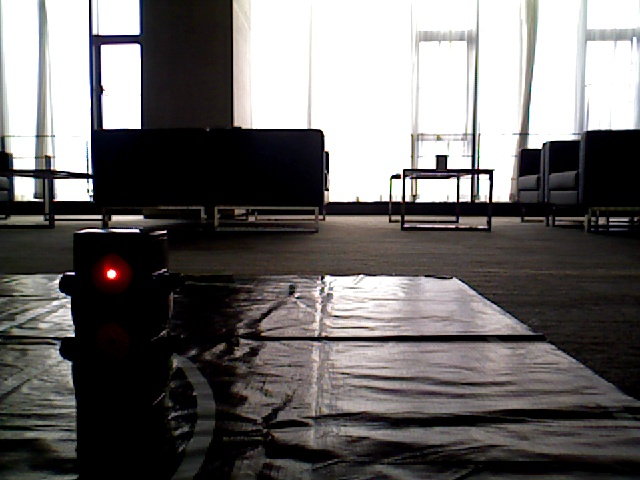red: (72, 229, 160, 404)
